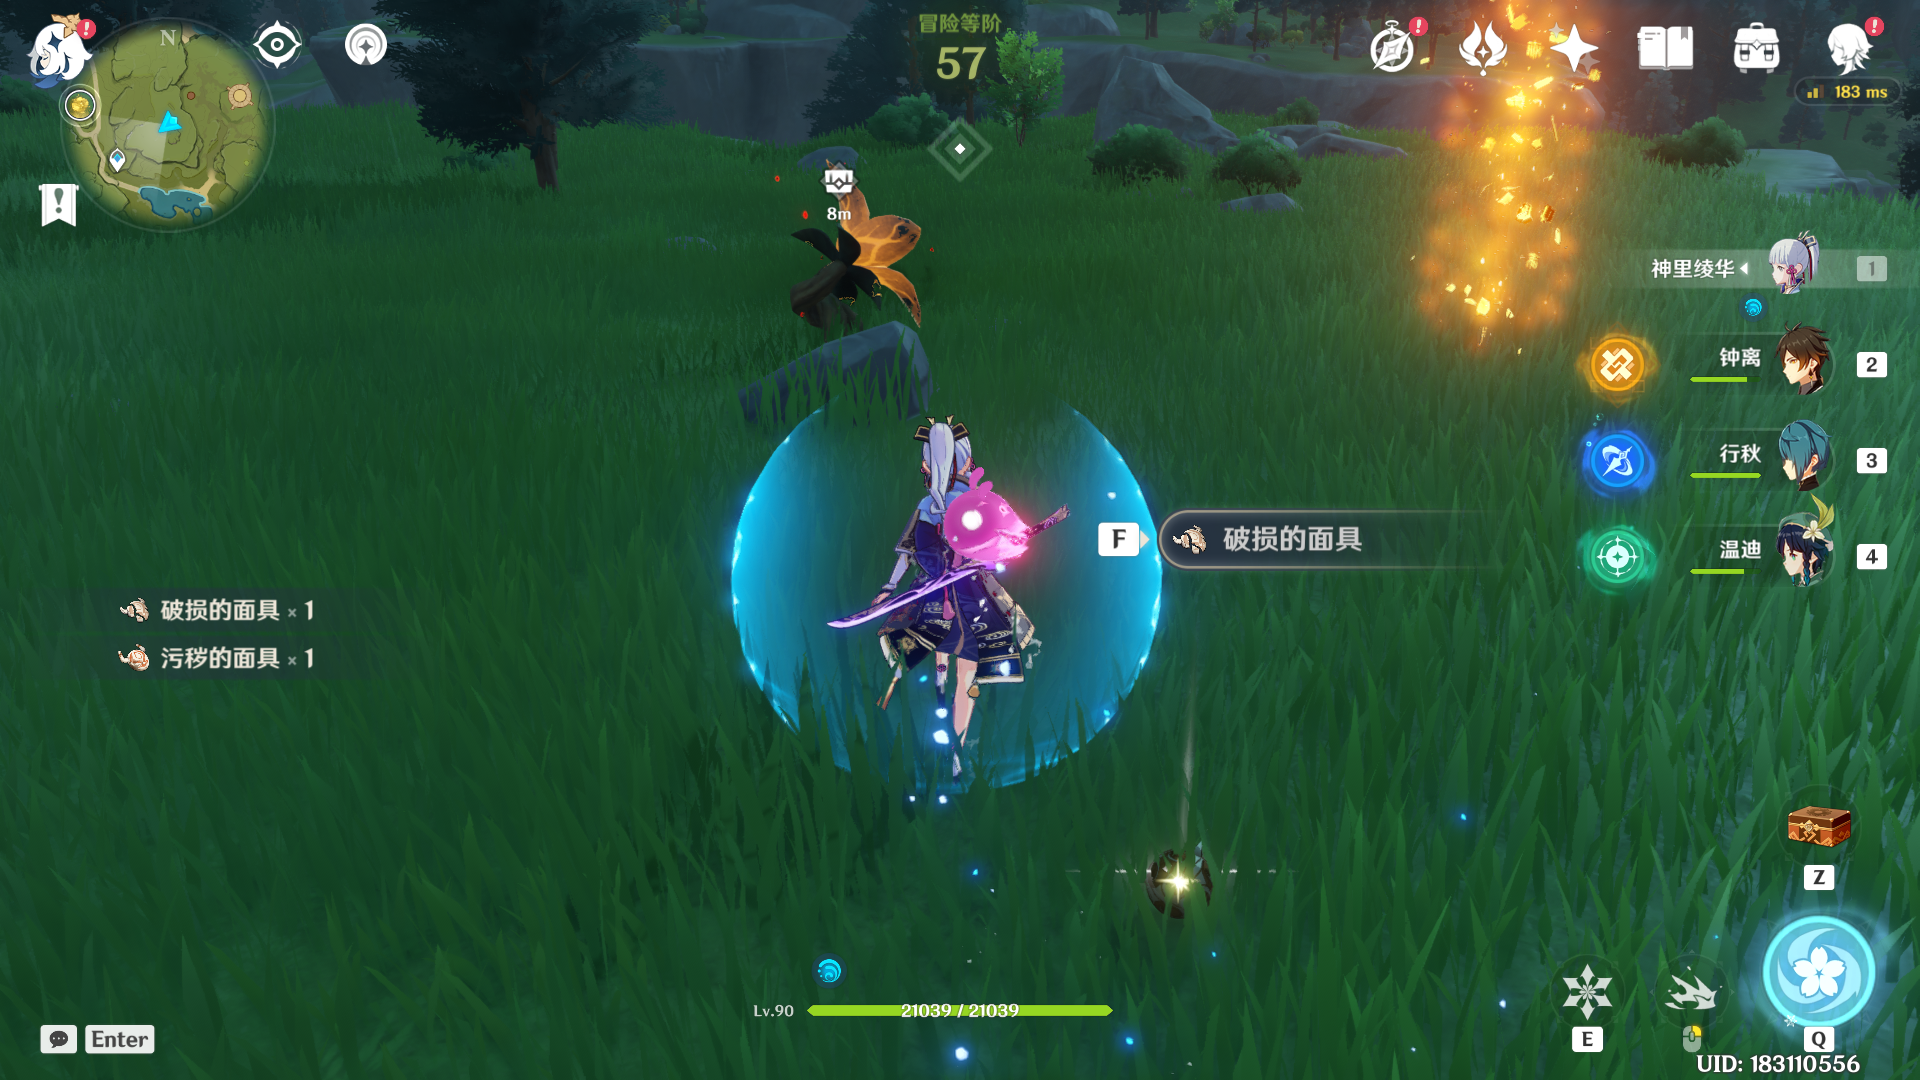character: (827, 421, 1097, 785)
